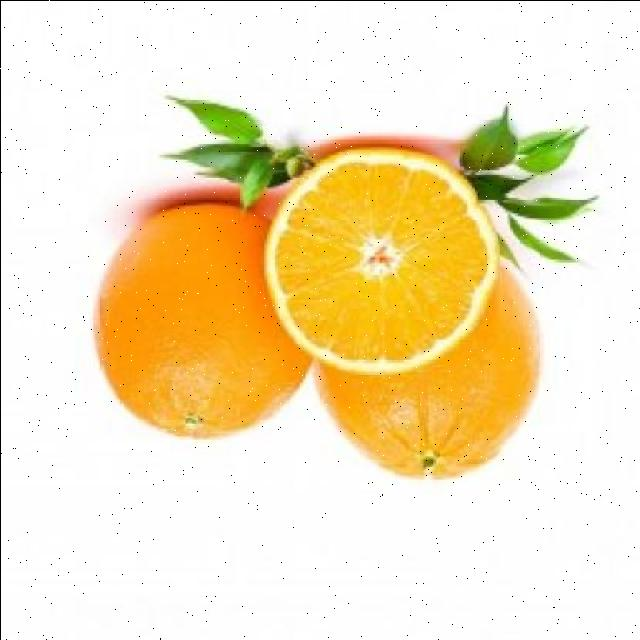Orange: (263, 147, 500, 376), (92, 200, 312, 442), (312, 257, 543, 481)
